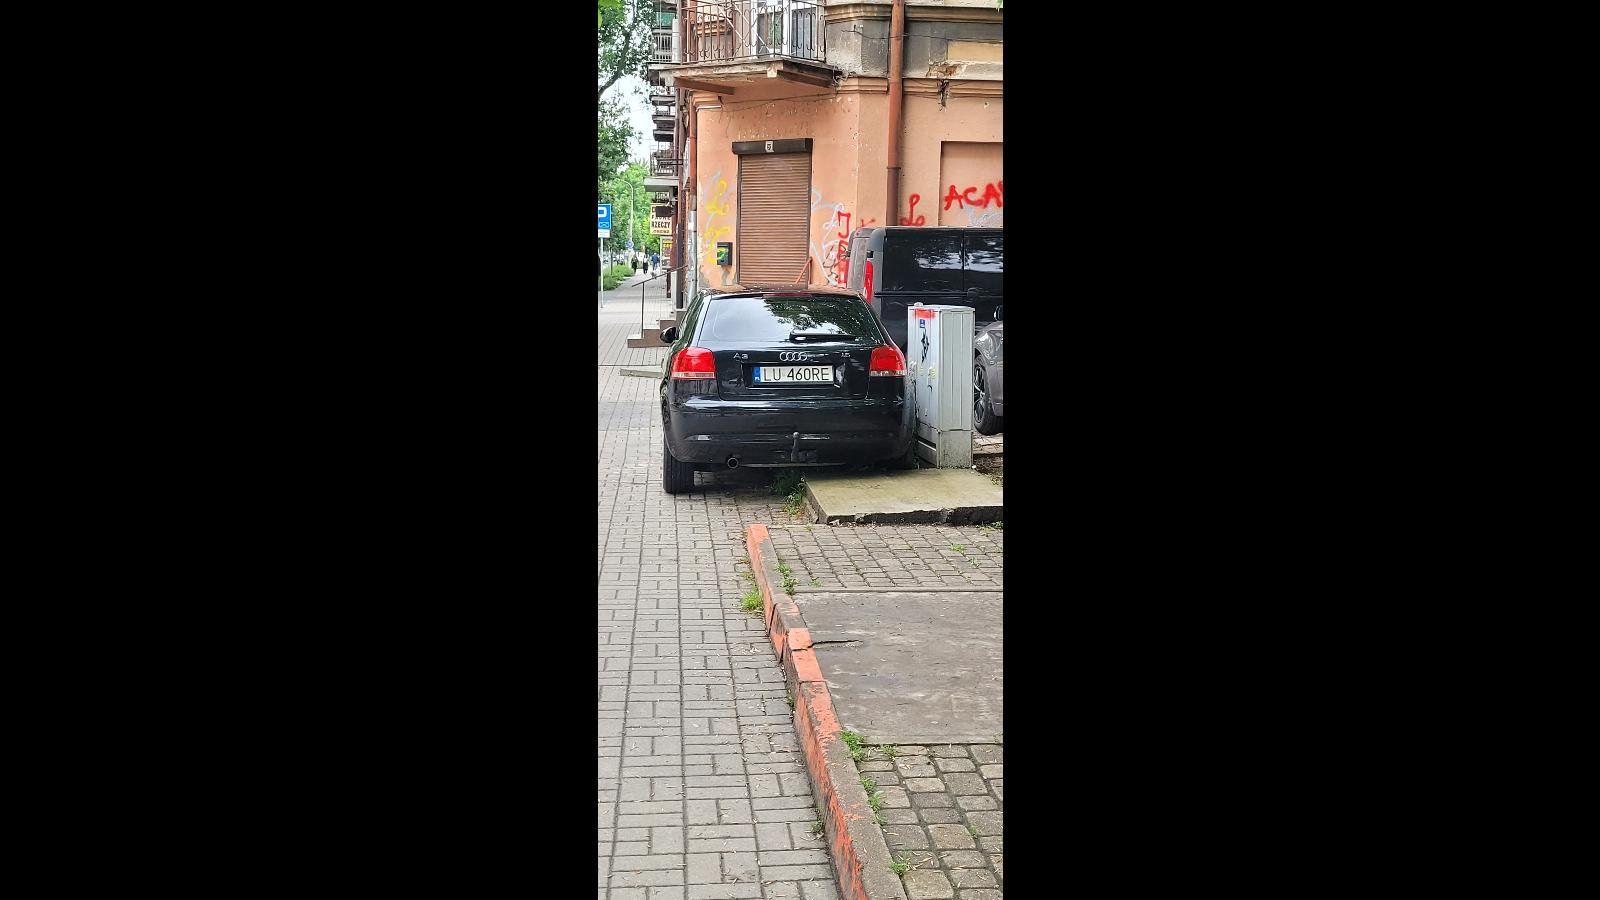plates: (750, 366, 833, 386)
